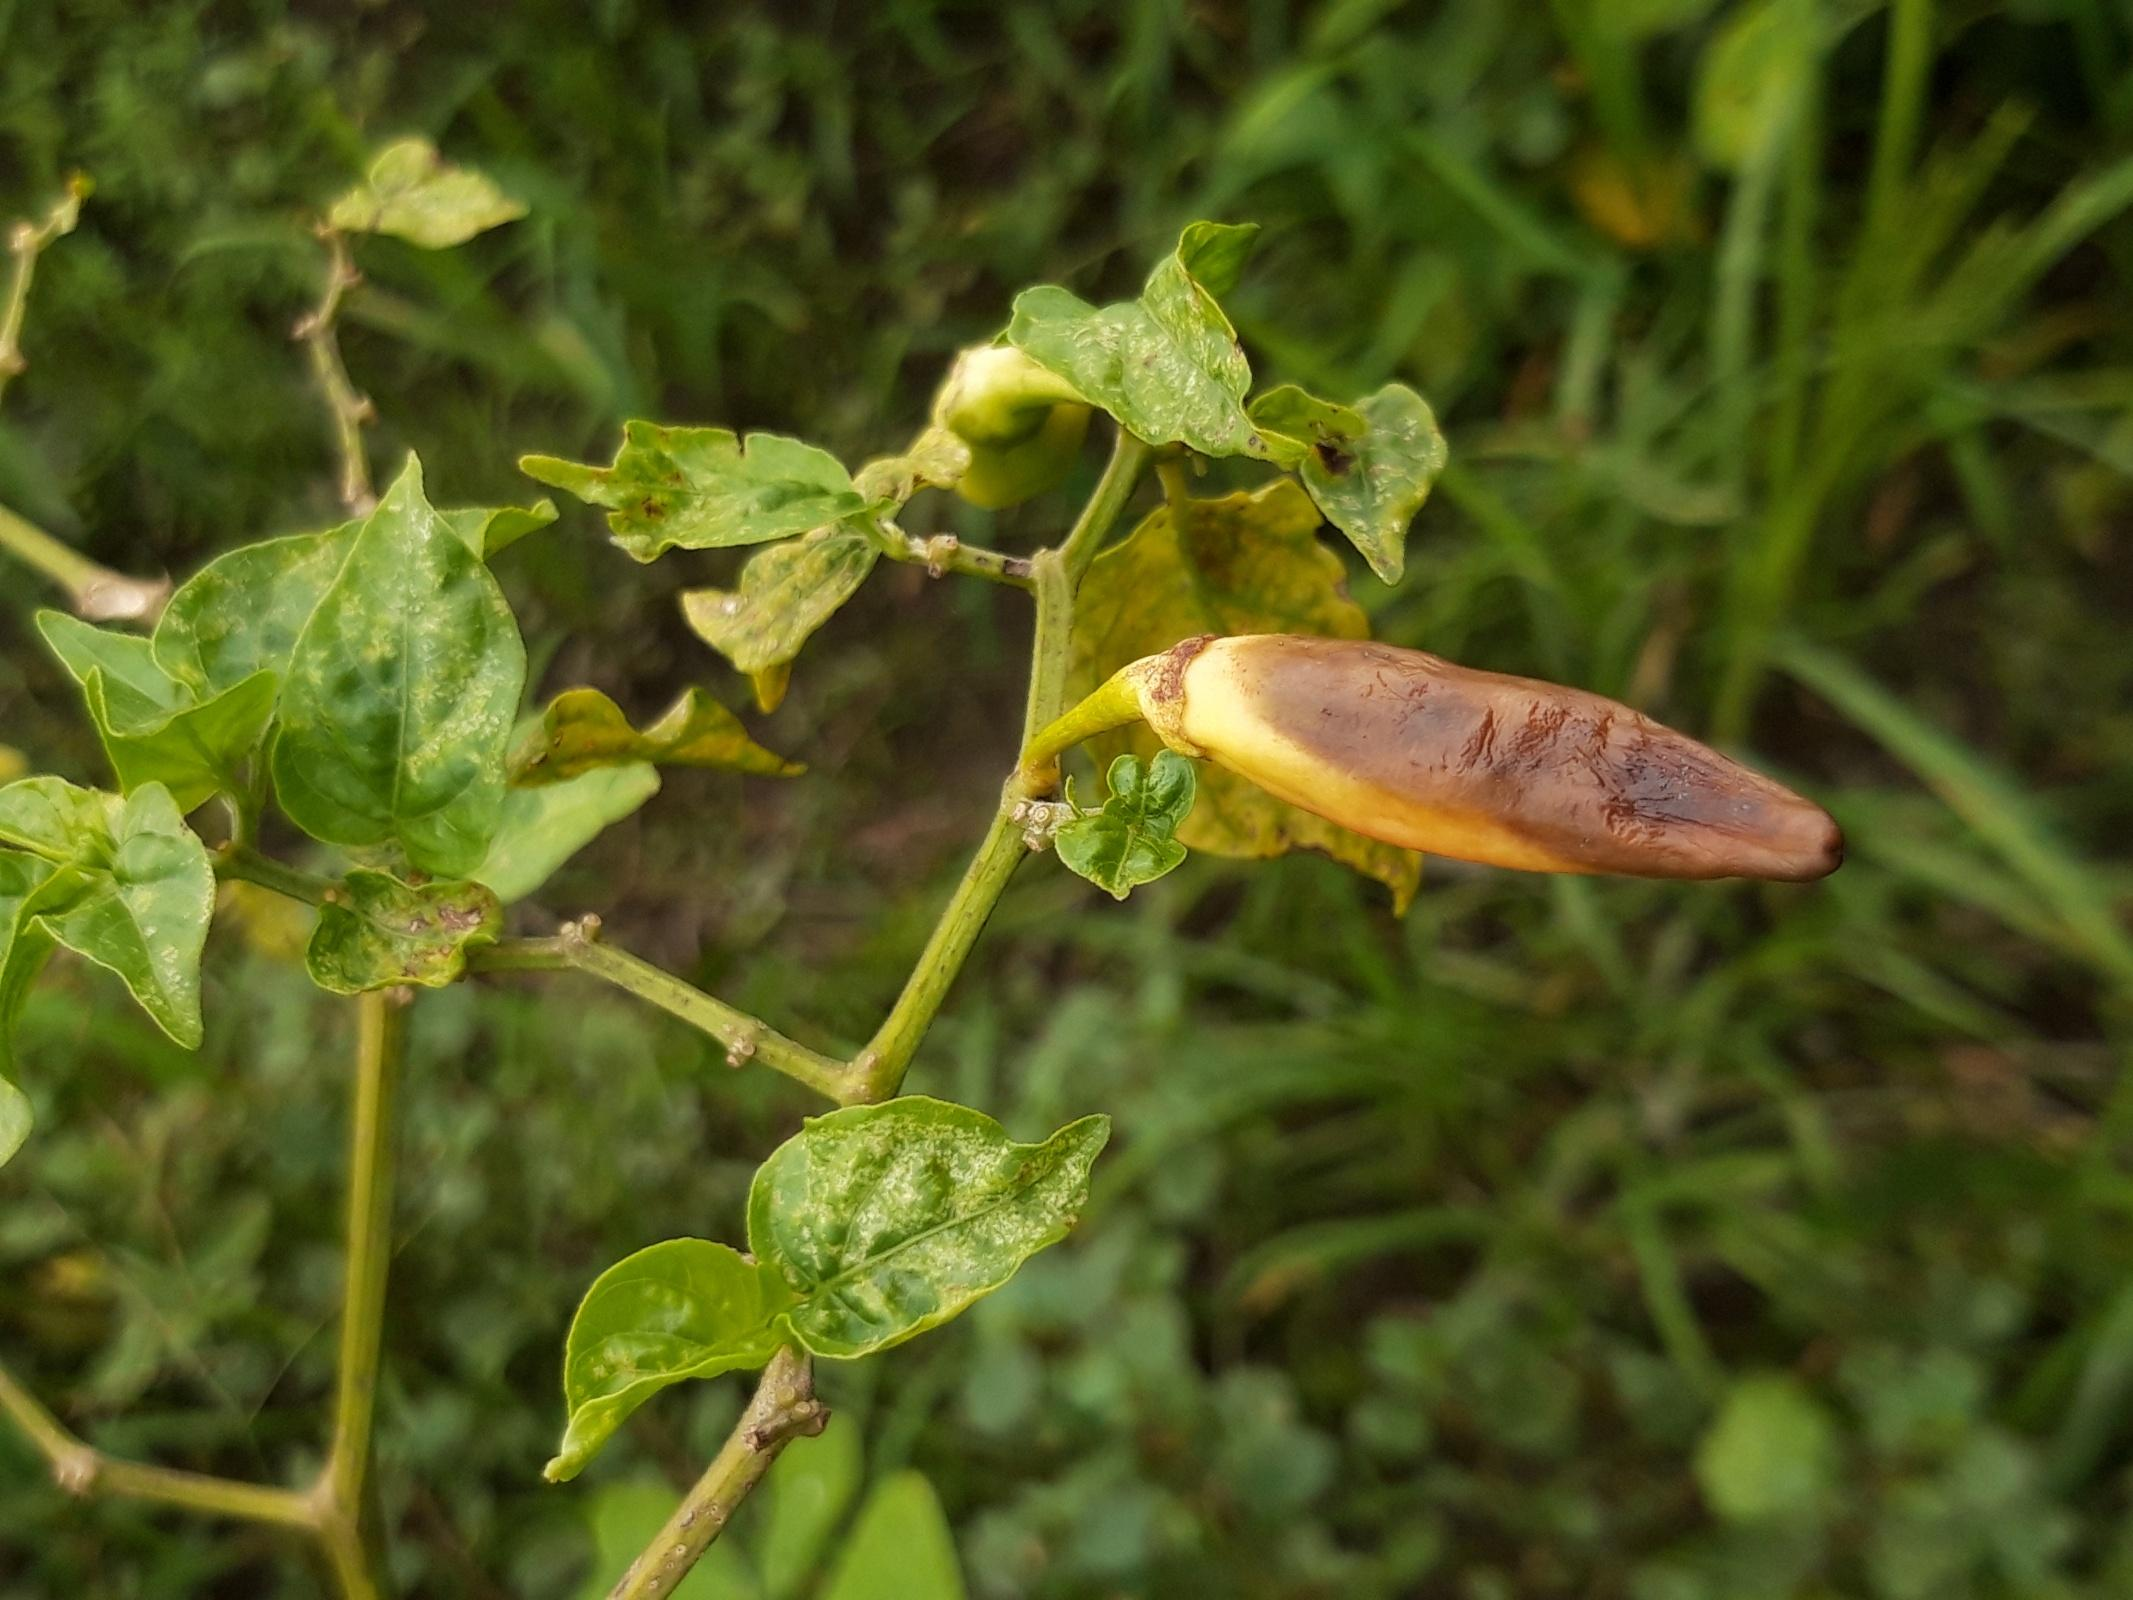lalat_buah: (1111, 625, 1844, 889)
